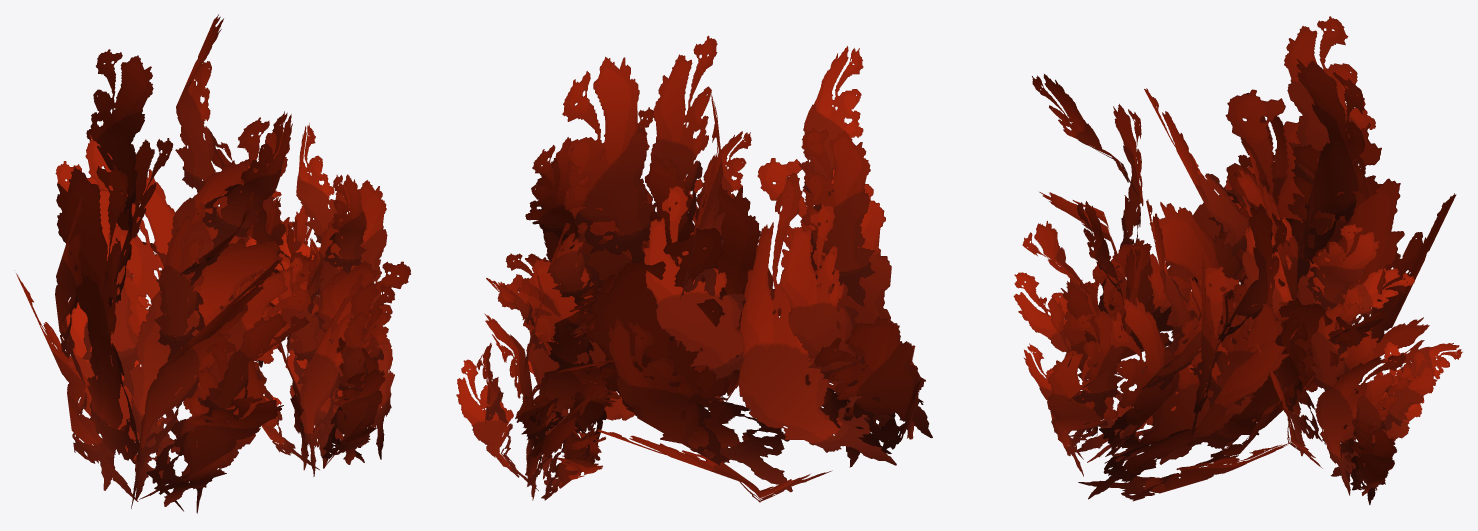
Rendered from Red Algae 5_preview_3DS_simplified.glb.
3 renders of one model, left to right at view 1: azimuth 30°, elevation 25°; view 2: azimuth 150°, elevation 25°; view 3: azimuth 270°, elevation 25°, orthographic. The views are drawn at different scales.
Visible parts, largest first — view 1: Marine Park Empire model; view 2: Marine Park Empire model; view 3: Marine Park Empire model.
Boxes of the visible parts, x1,y1,x2,y2 form: Marine Park Empire model: [16, 14, 410, 513]; Marine Park Empire model: [456, 35, 932, 502]; Marine Park Empire model: [1013, 16, 1462, 504].
Size of the model in its own units: 167 by 201 by 174.
Materials: 1 (1 with a texture image).
